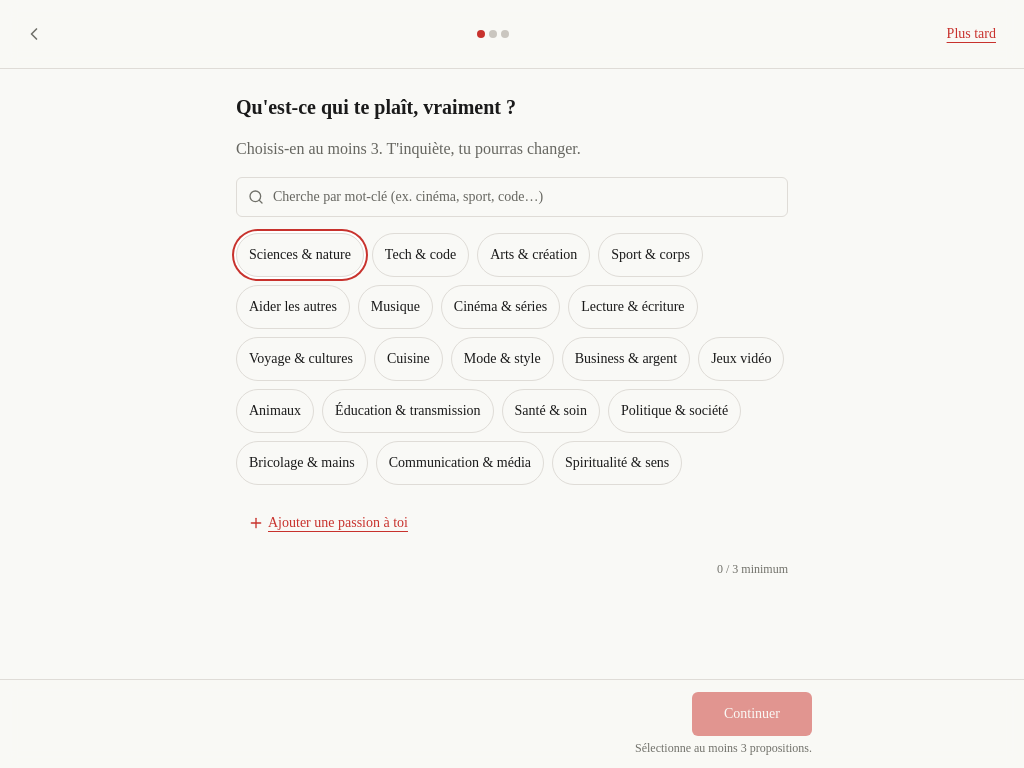
OnboardingStep1 orchestrator › enables Continue once min 3 passions are selected, then advances to 1B on click
Step 1. Click the checkbox labelled "Musique" → (395, 307), box [358,285,433,329]
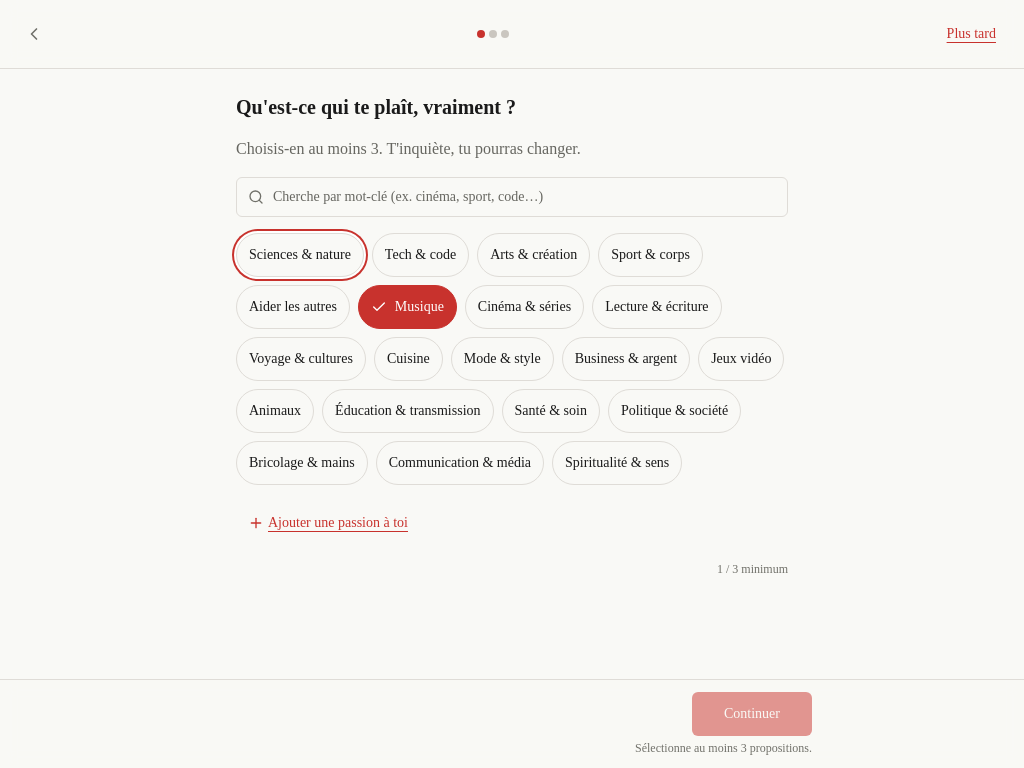
Step 2. Click the checkbox labelled "Tech & code" → (421, 255), box [372,233,469,277]
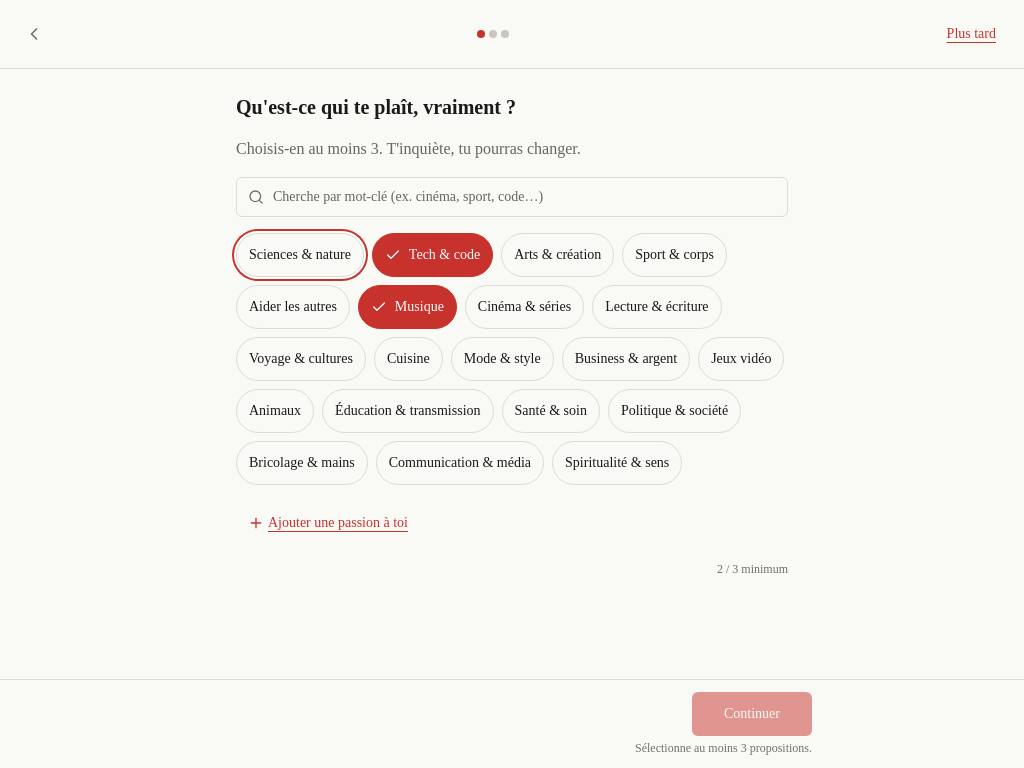
Step 3. Click the checkbox labelled "Sport & corps" → (675, 255), box [622,233,727,277]
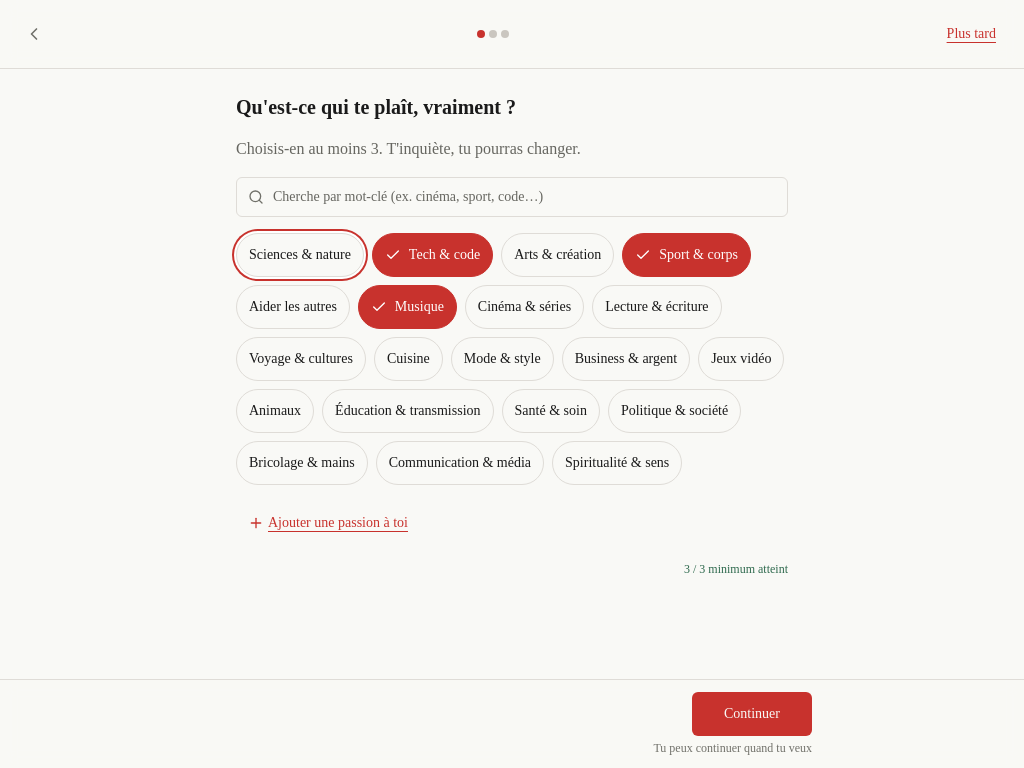
Now the button with test id "onboarding-continue" is enabled
Step 4. Click the button with test id "onboarding-continue" → (752, 714), box [692,692,812,736]
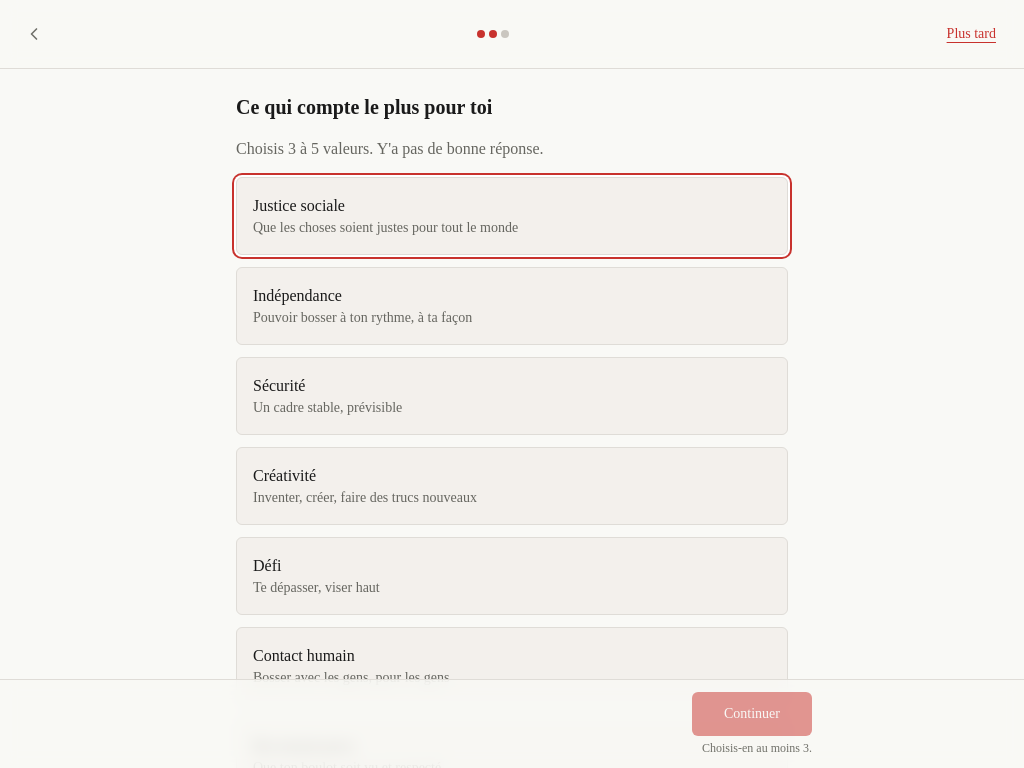
Now the heading "Ce qui compte le plus pour toi" is shown, box [236,96,492,118]
